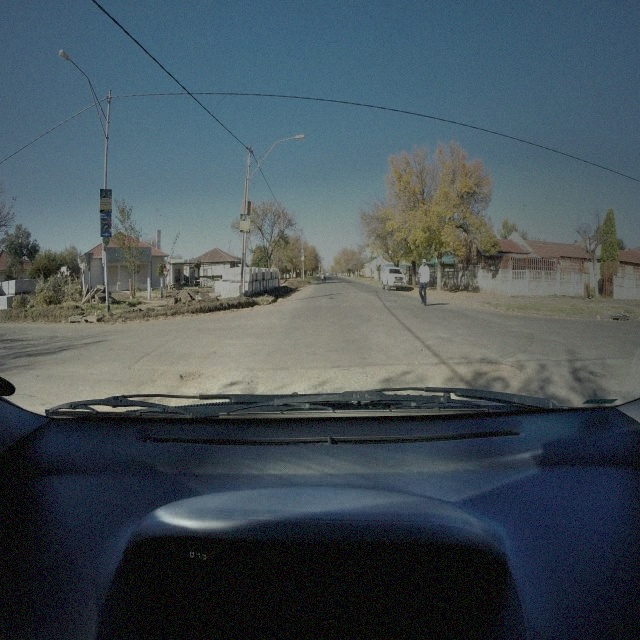pothole: (489, 360, 522, 378), (179, 372, 202, 384)
